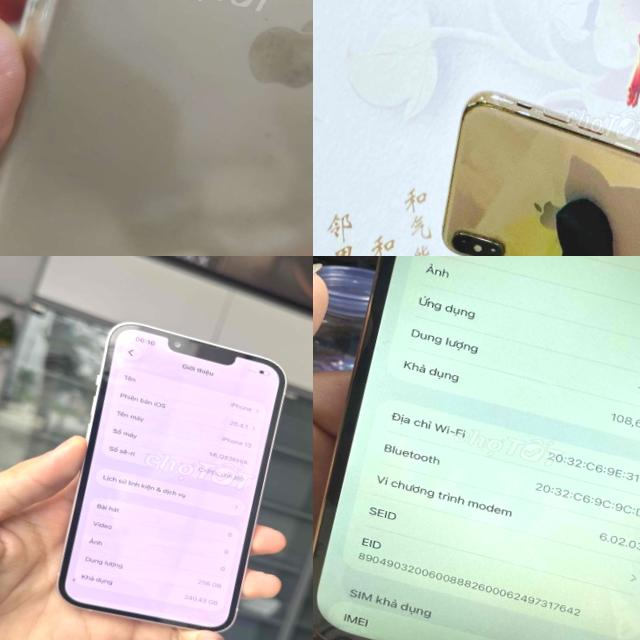scratch: (240, 0, 313, 106)
